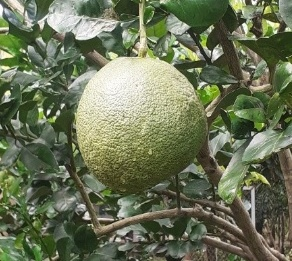Buoi: (44, 46, 226, 191)
